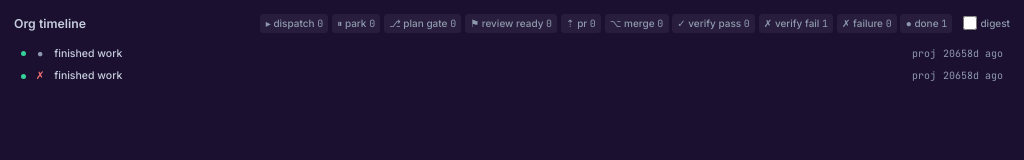
Test: TimelinePage › a kind chip filters the list
What coordinates should you click on to do the following:
click the button with test id "feed-chip-done"
I would click on:
 (926, 23)
Its box is [900,14,952,32].
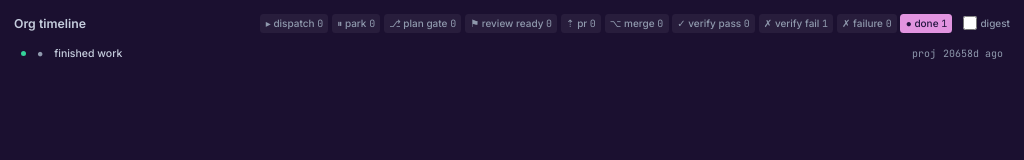
Now the number of buttons with test id "feed-row" is 1, box [14,43,1010,64]
